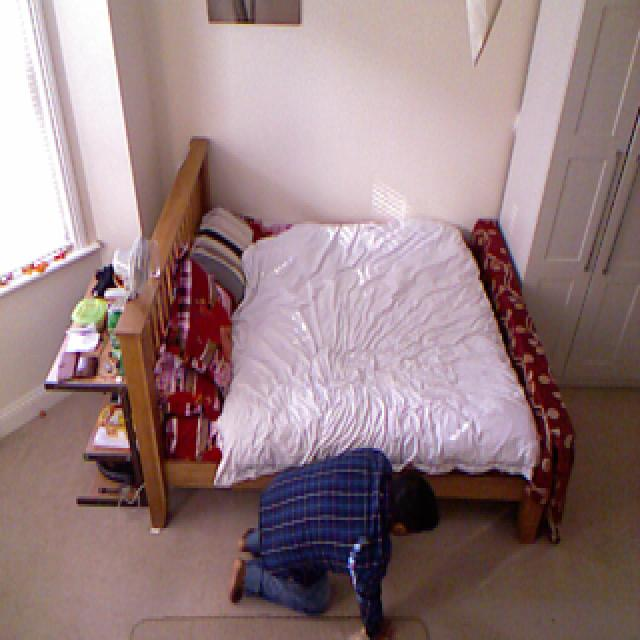crawling: (230, 445, 440, 640)
